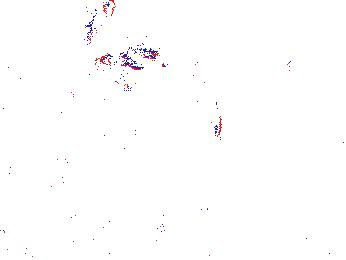glassfish: (190, 69, 224, 142)
redtail glassfish: (79, 1, 115, 47), (98, 46, 161, 68), (91, 56, 130, 91)
